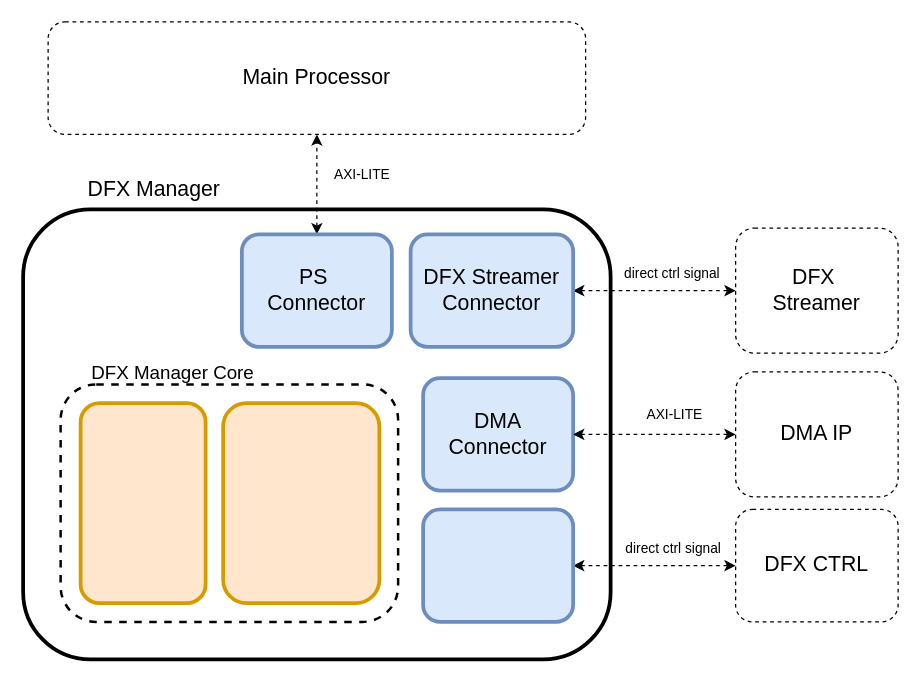
This 920x683 diagram has some shape labels left out. The centre of each missing label's shape, as x and y in pixels:
"DFX CTRL Connector" goes at (x=497, y=565).
"Flow CTRL" goes at (x=301, y=502).
"Internal Memory Bank" goes at (x=142, y=502).
